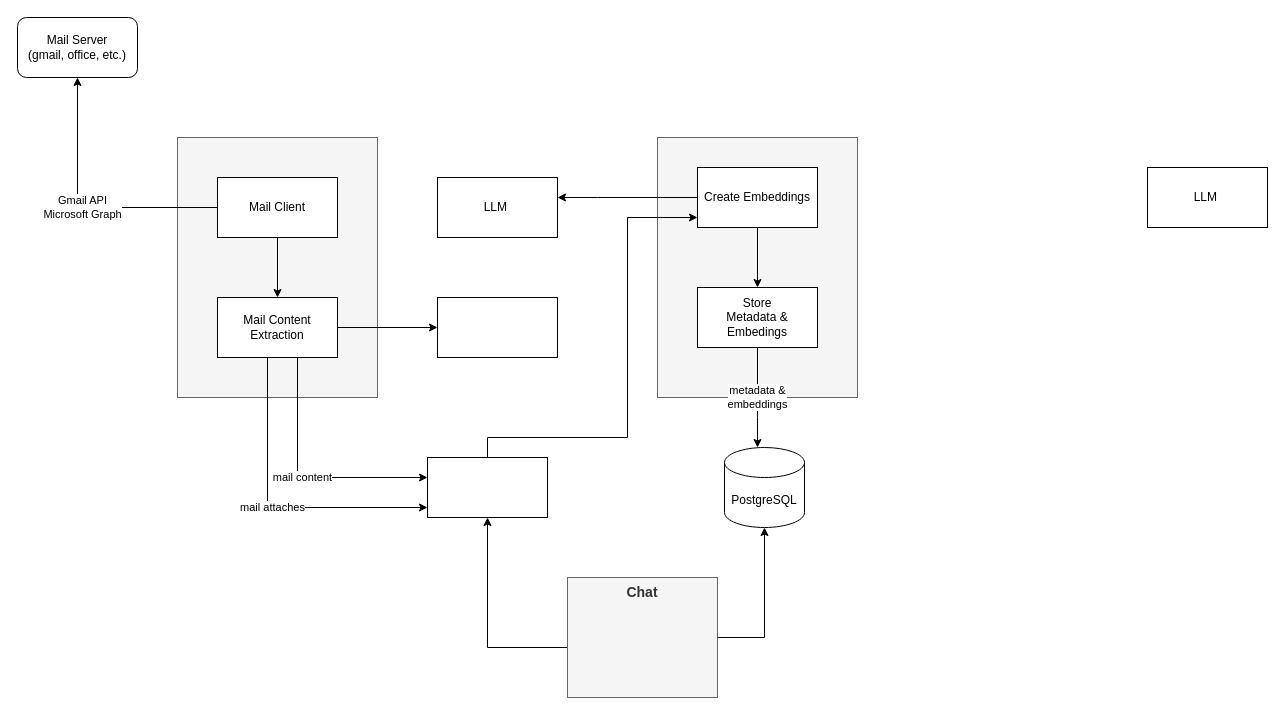
This 1285x715 diagram has some shape labels left out. The shapes that lost their labels are listed below. From the top down, each one's box as (x1, y1, x2, y2) in pixels, then its label:
(176, 136, 378, 398): Mail Reader
(656, 136, 858, 398): Mail Parser
(436, 296, 558, 358): Apache Tika
(426, 456, 548, 518): Storage S3
